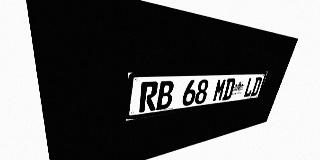6: (181, 80, 198, 106)
8: (194, 79, 210, 105)
B: (156, 81, 175, 110)
D: (222, 78, 236, 100), (250, 77, 263, 96)
L: (243, 77, 256, 97)
M: (212, 78, 227, 102)
R: (139, 81, 159, 113)
